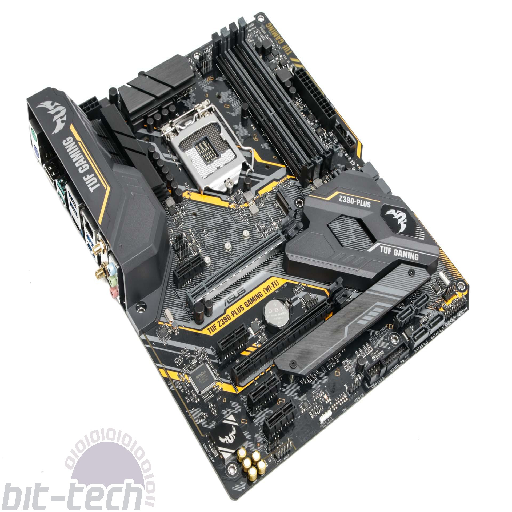CPU: (163, 108, 247, 192)
GPU: (227, 277, 355, 379), (184, 217, 304, 307)
MOTHERBOARD: (25, 12, 472, 498)
RAM: (209, 18, 337, 177)
SSD: (274, 187, 298, 216)
